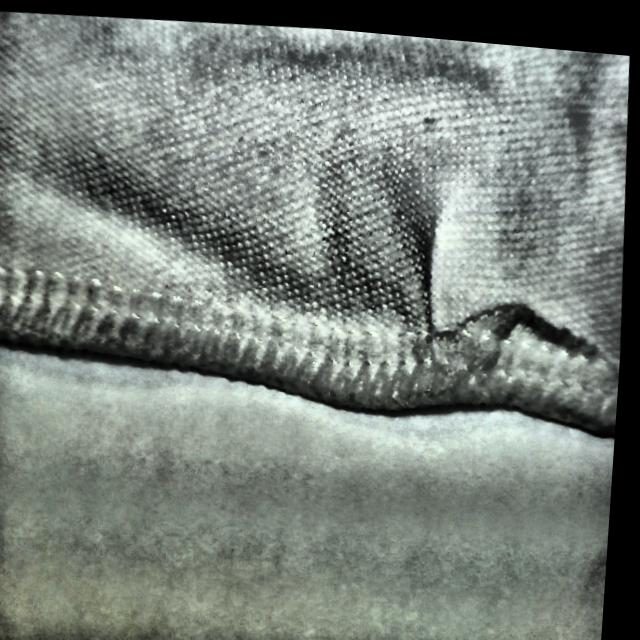seam: (375, 201, 608, 418)
